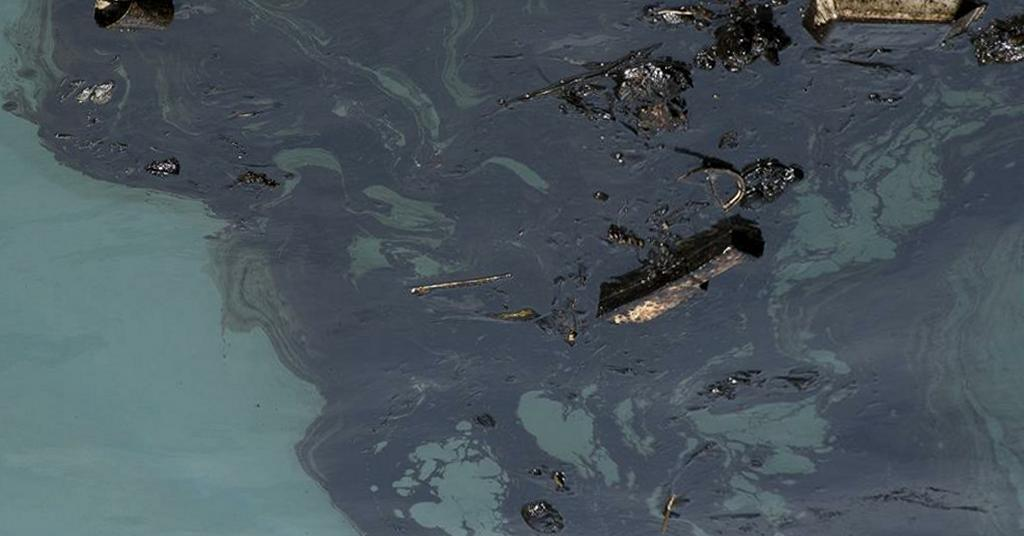Oil Pollution: (4, 0, 1024, 536)
